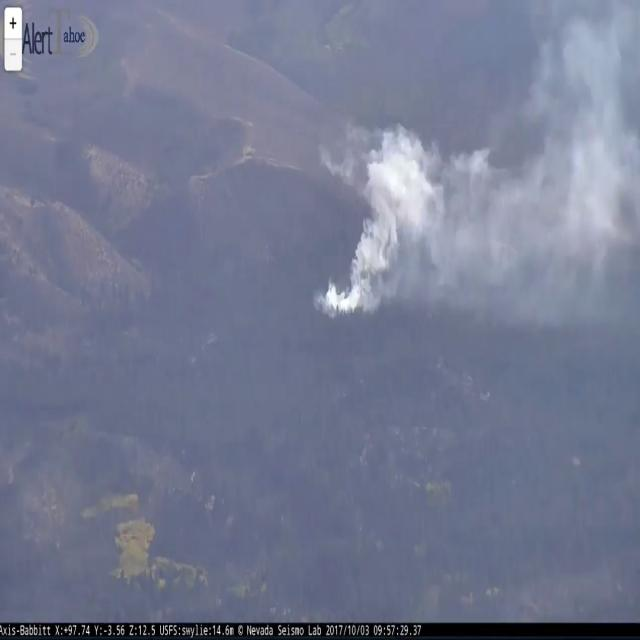smoke: (315, 0, 640, 315)
